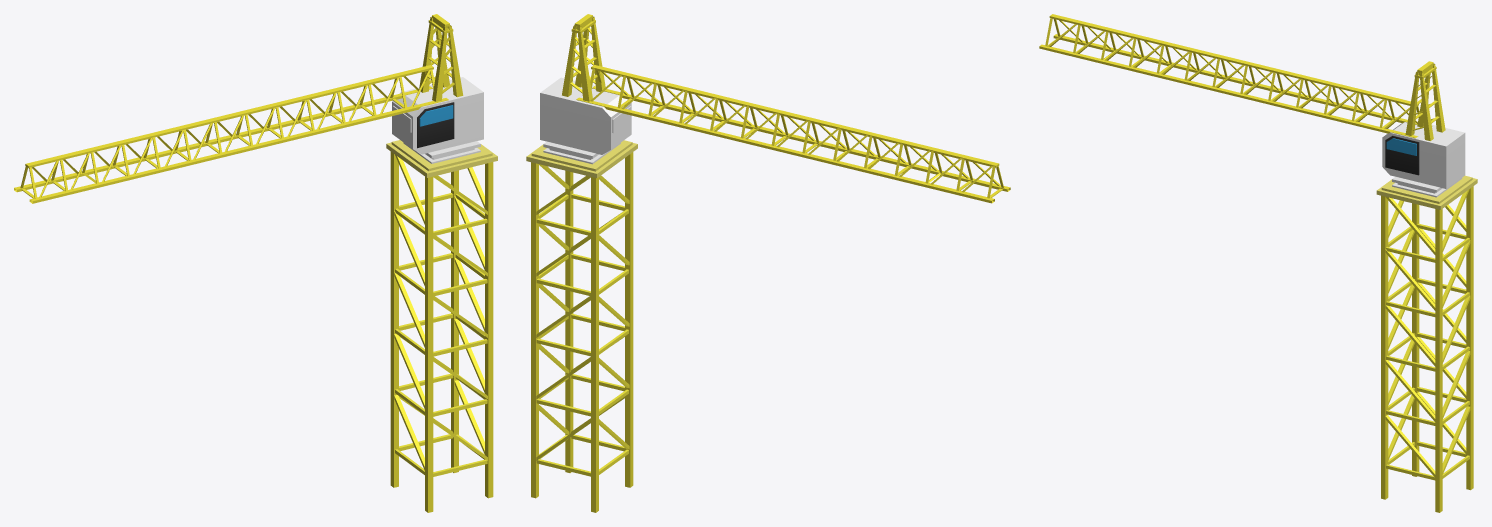
File: Crane.fbx
The picture shows the model from 3 angles, left to right: view 1: azimuth 30°, elevation 25°; view 2: azimuth 150°, elevation 25°; view 3: azimuth 330°, elevation 25°; orthographic projection. The views are drawn at different scales.
Visible parts, largest first — view 1: Crane1_LOD0, Crane2_LOD0; view 2: Crane1_LOD0, Crane2_LOD0; view 3: Crane1_LOD0, Crane2_LOD0.
Boxes of the visible parts, x1,y1,x2,y2 form: Crane1_LOD0: [386, 140, 497, 512]; Crane2_LOD0: [14, 14, 483, 203]; Crane1_LOD0: [526, 140, 637, 512]; Crane2_LOD0: [540, 14, 1010, 203]; Crane1_LOD0: [1376, 175, 1477, 512]; Crane2_LOD0: [1039, 14, 1465, 197].
Size of what is drawn, in the model's own units: 3254 by 3232 by 506.
